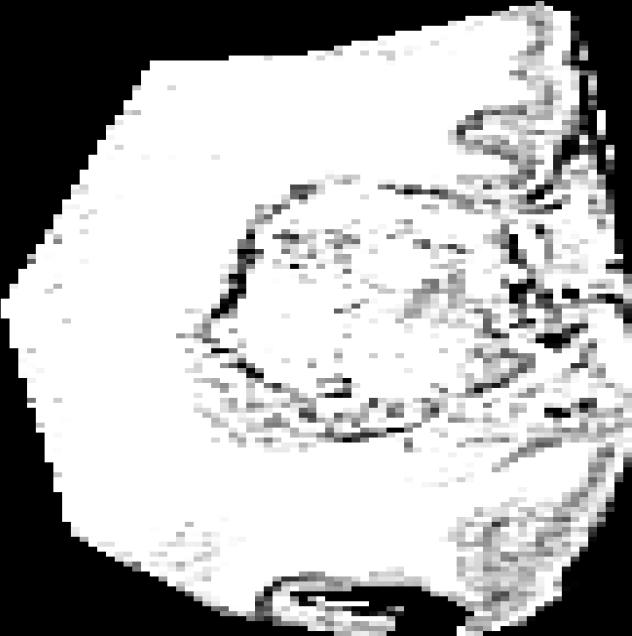tumor_less_chance: (1, 1, 632, 636)
